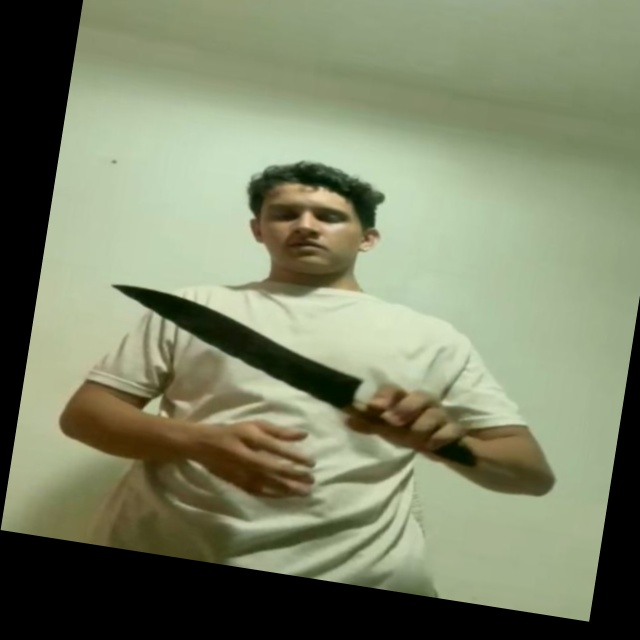Sharp-Object: (98, 282, 375, 411)
